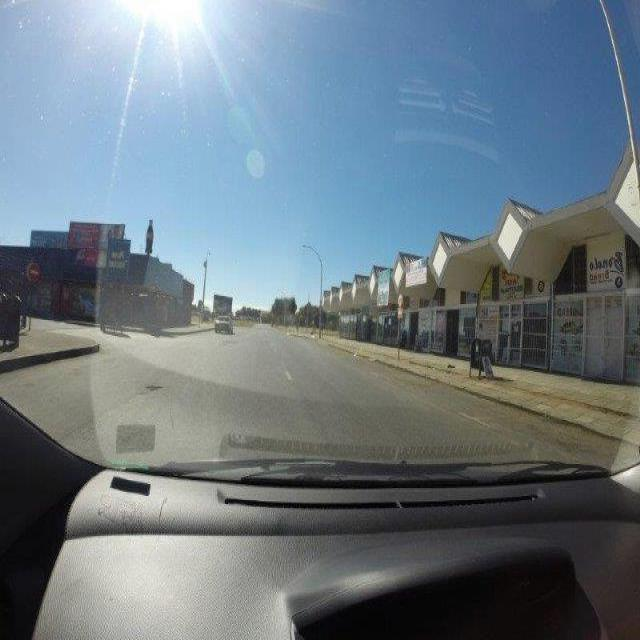lubang: (143, 376, 165, 396)
